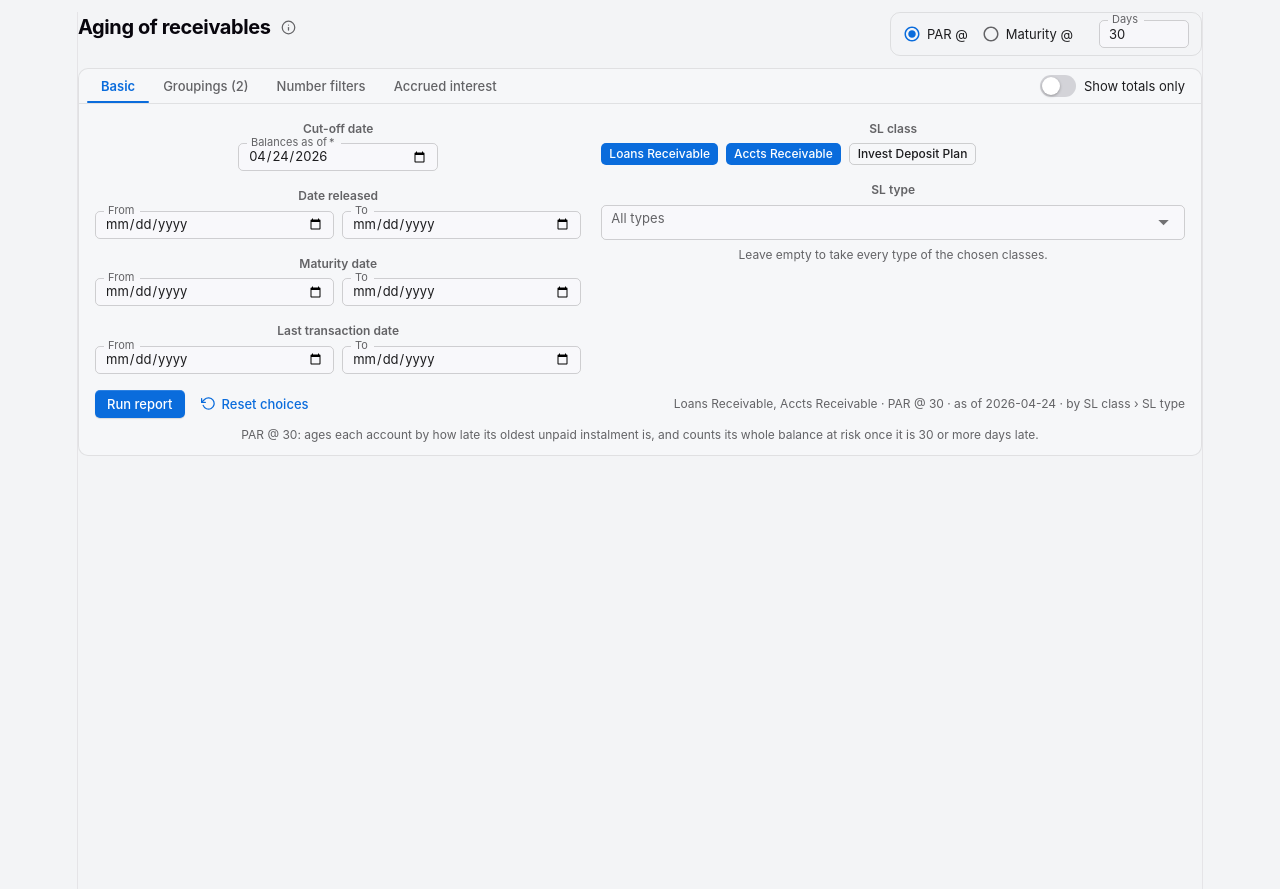
Scenario: Aging of receivables › makes the Excel and PDF files for the choices of the run on screen, and says why one failed
Click the radio button labelled "Maturity @" at (1024, 34), box [976,19,1073,49]
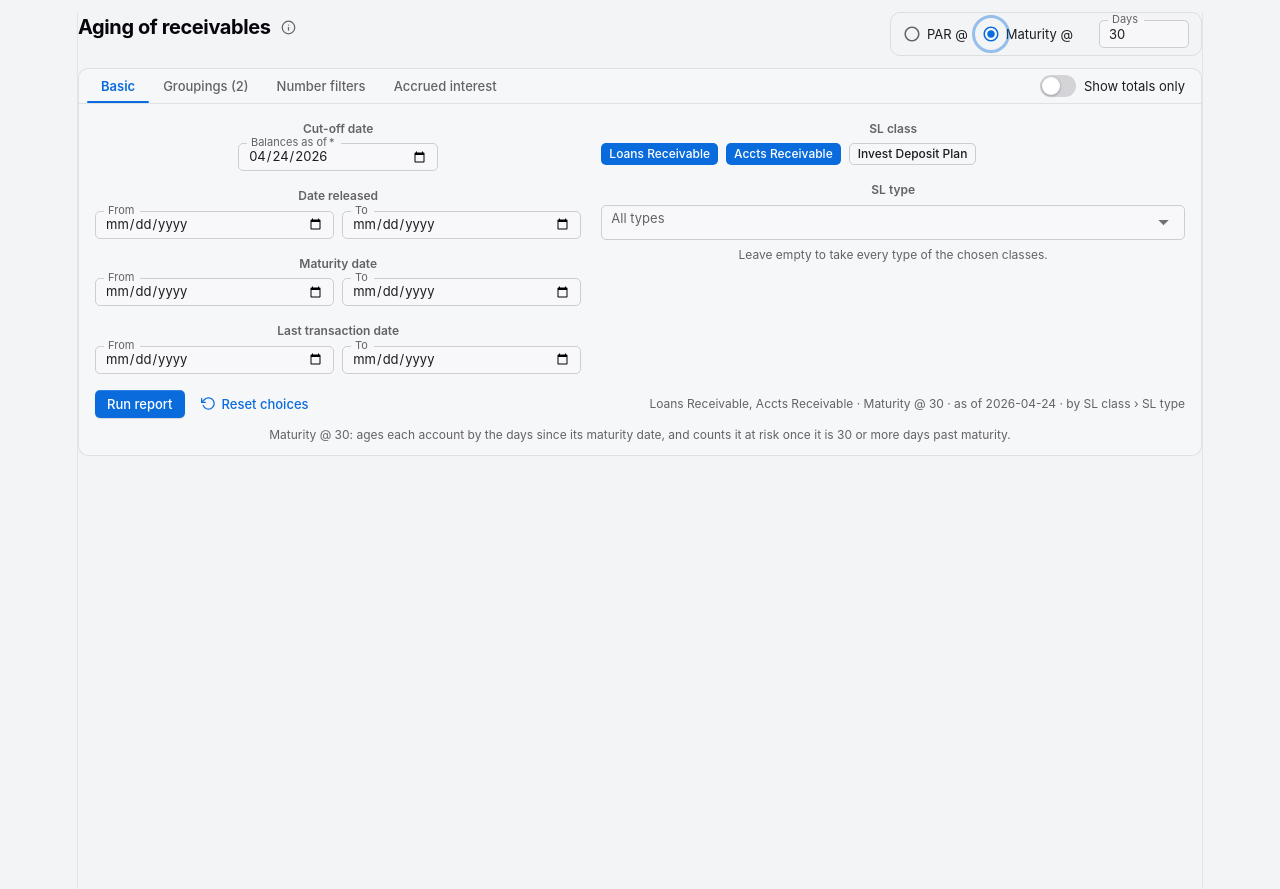
Click the button "Run report" at (140, 404), box [95,390,184,418]
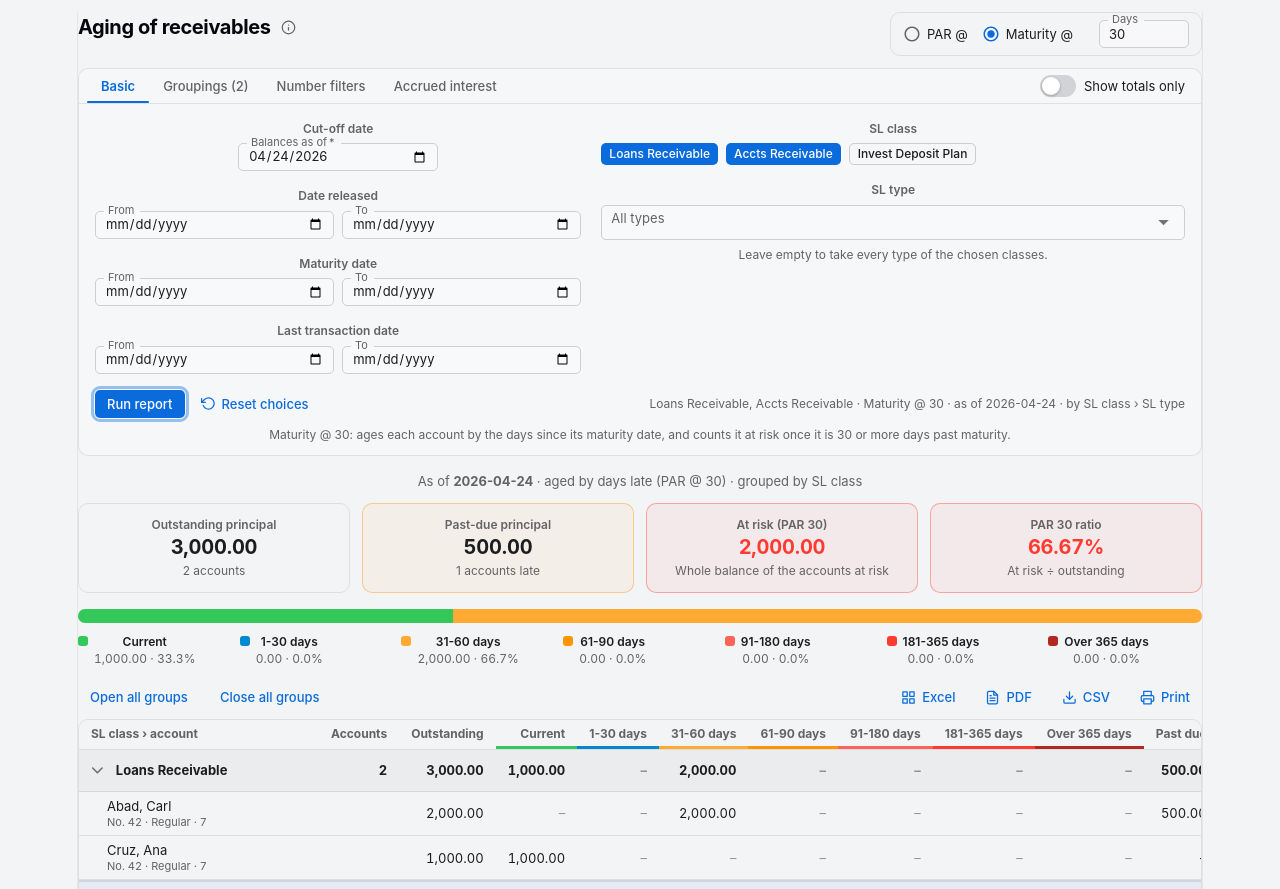
Result: the text "Outstanding principal" is shown at [152,517,276,532]
Note: a choice changed after the run does not change what the files hold
Click the radio button labelled "PAR @" at (932, 34), box [897,19,968,49]
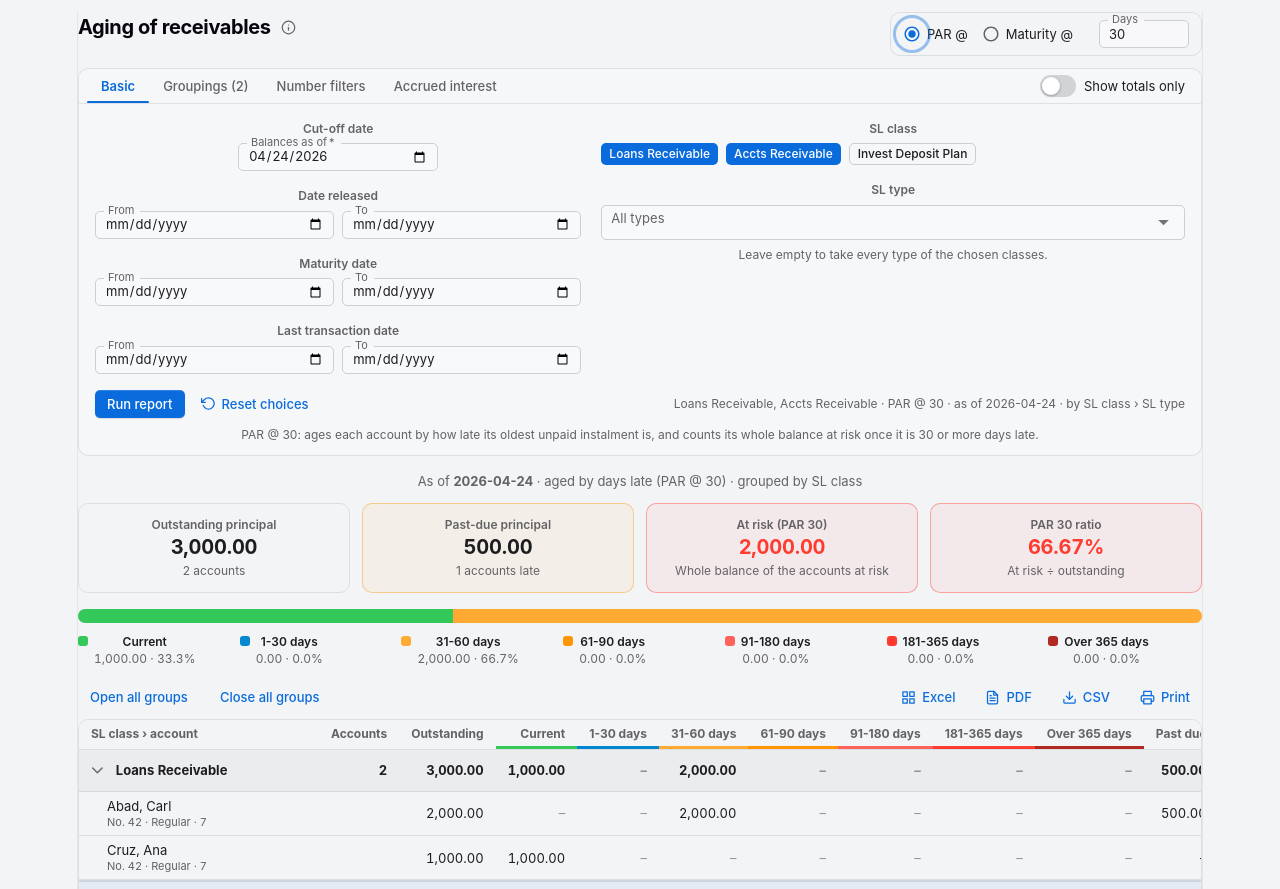
Click the button "Excel" at (929, 697), box [891,683,967,711]
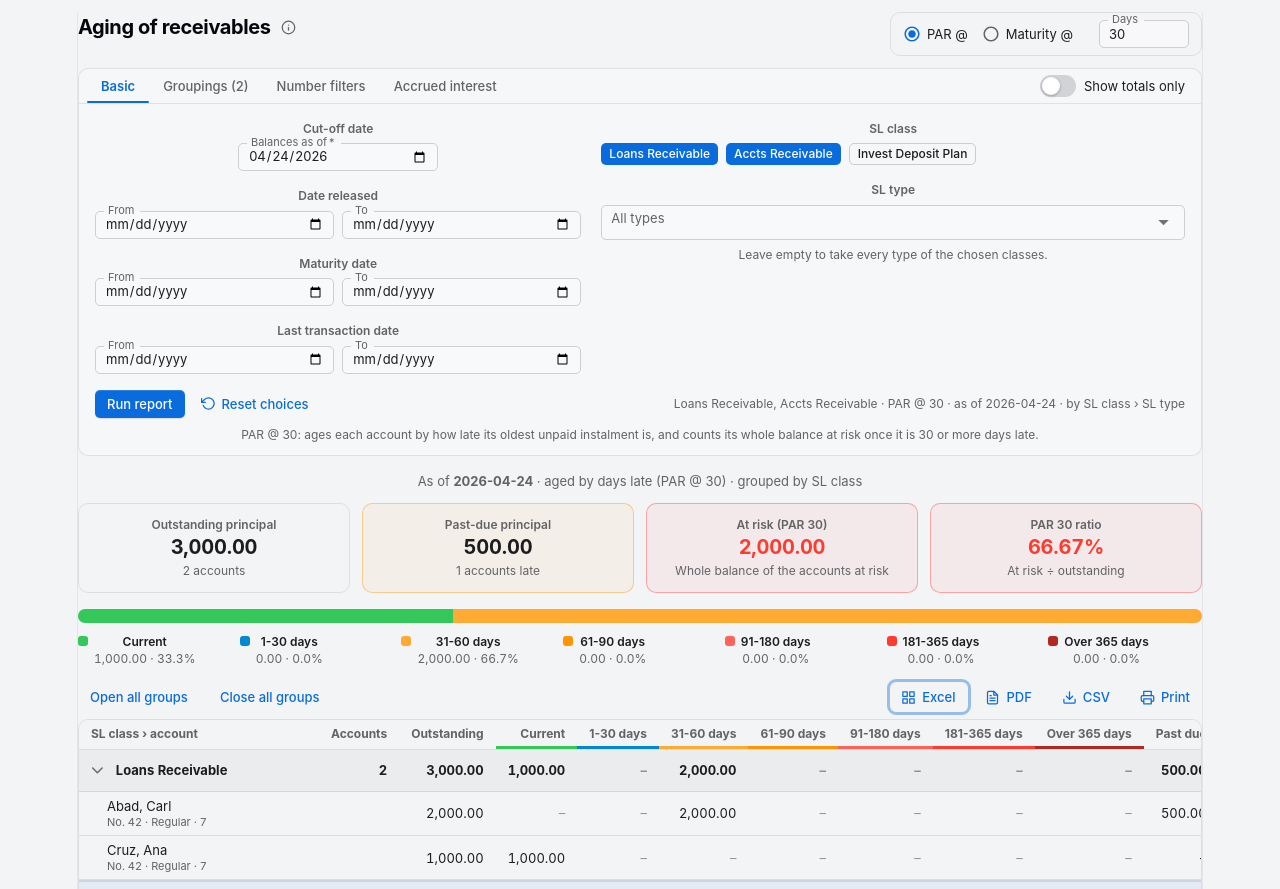
Click the button "PDF" at (1010, 697), box [976,683,1044,711]
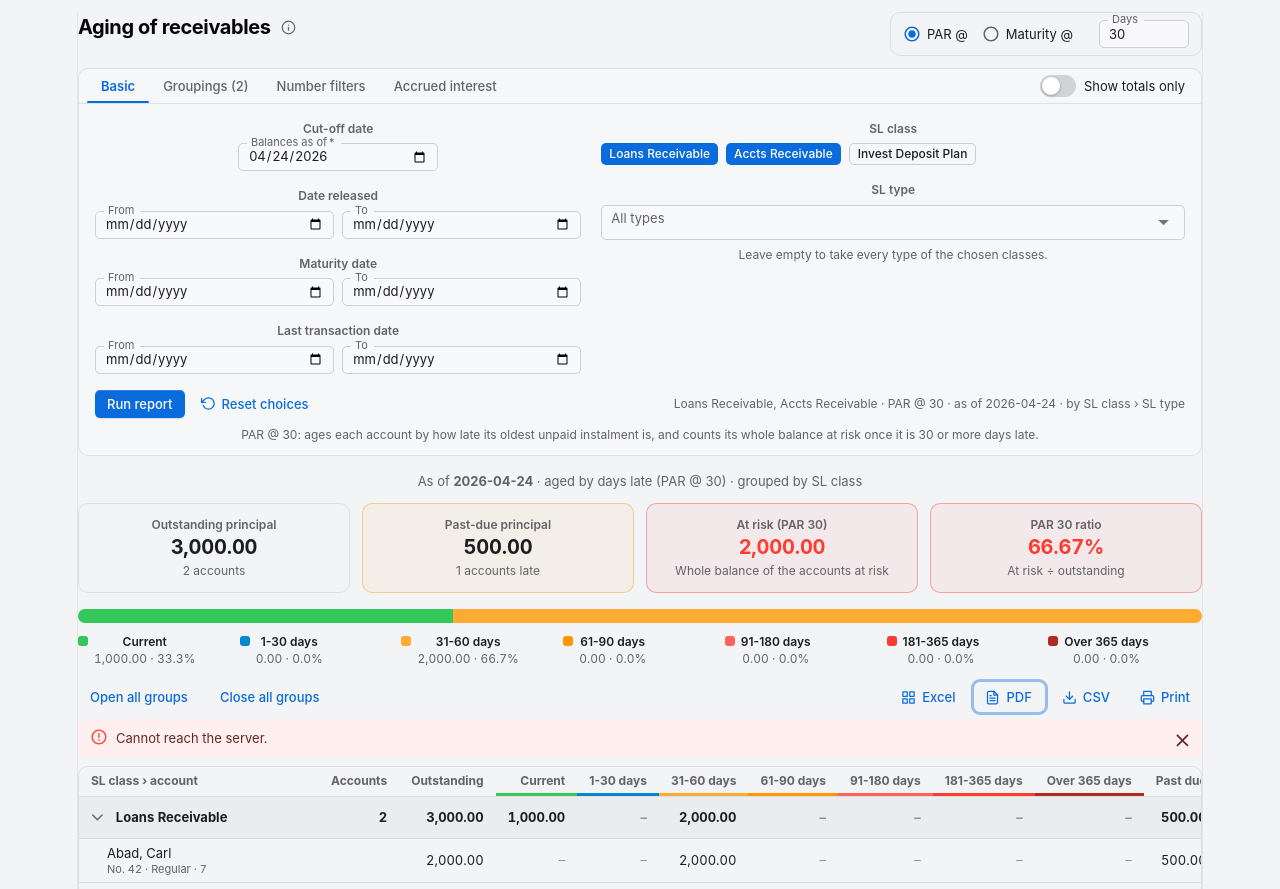
Result: the text "Cannot reach the server." is shown at [116,730,268,746]
